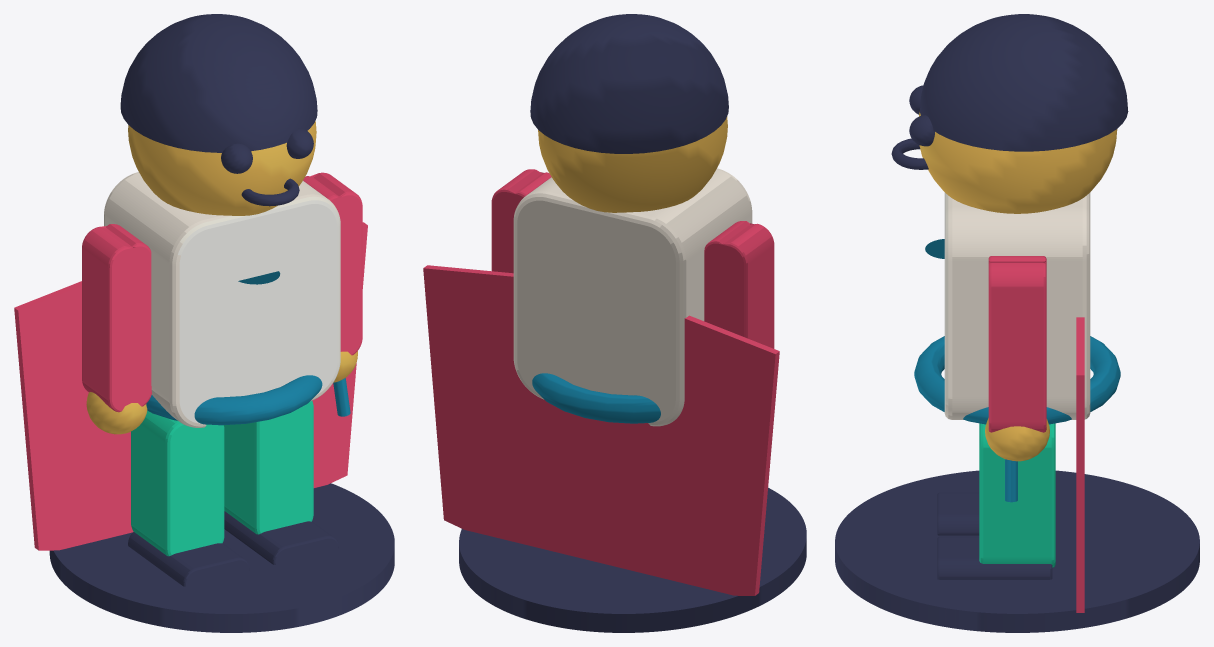
Rendered from 1084_古文观止_千里马.glb.
3 renders of one model, left to right at view 1: azimuth 30°, elevation 25°; view 2: azimuth 150°, elevation 25°; view 3: azimuth 270°, elevation 25°, orthographic.
Visible parts, largest first — view 1: card_1084; view 2: card_1084; view 3: card_1084.
Part boxes in pixels (<box>): card_1084: <box>14,14,394,632</box>; card_1084: <box>423,14,806,632</box>; card_1084: <box>835,14,1199,632</box>.
Size of the model in its own units: 0.6739 by 1 by 0.6024.
